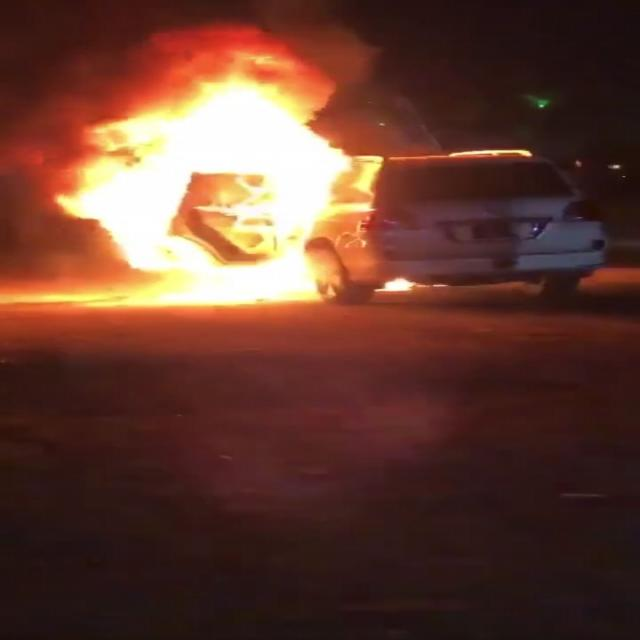Fire: (68, 87, 348, 273), (23, 257, 325, 310)
